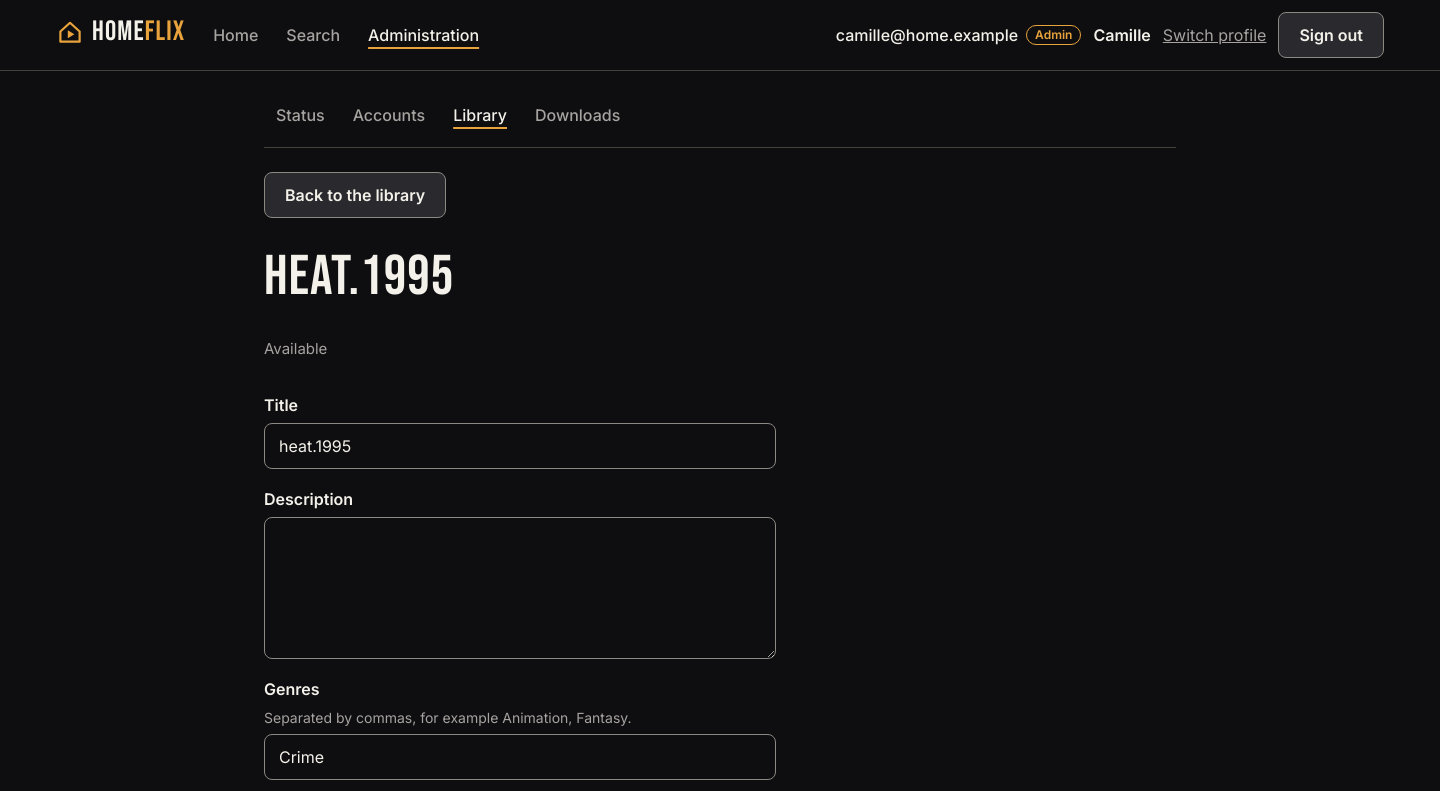
it: MediaEditPage › saves every field in the shape of the contract
The image size is (1440, 791).
Replace the text in the field labelled "Title" with " Heat " at point(520, 446), box [264, 422, 776, 468]
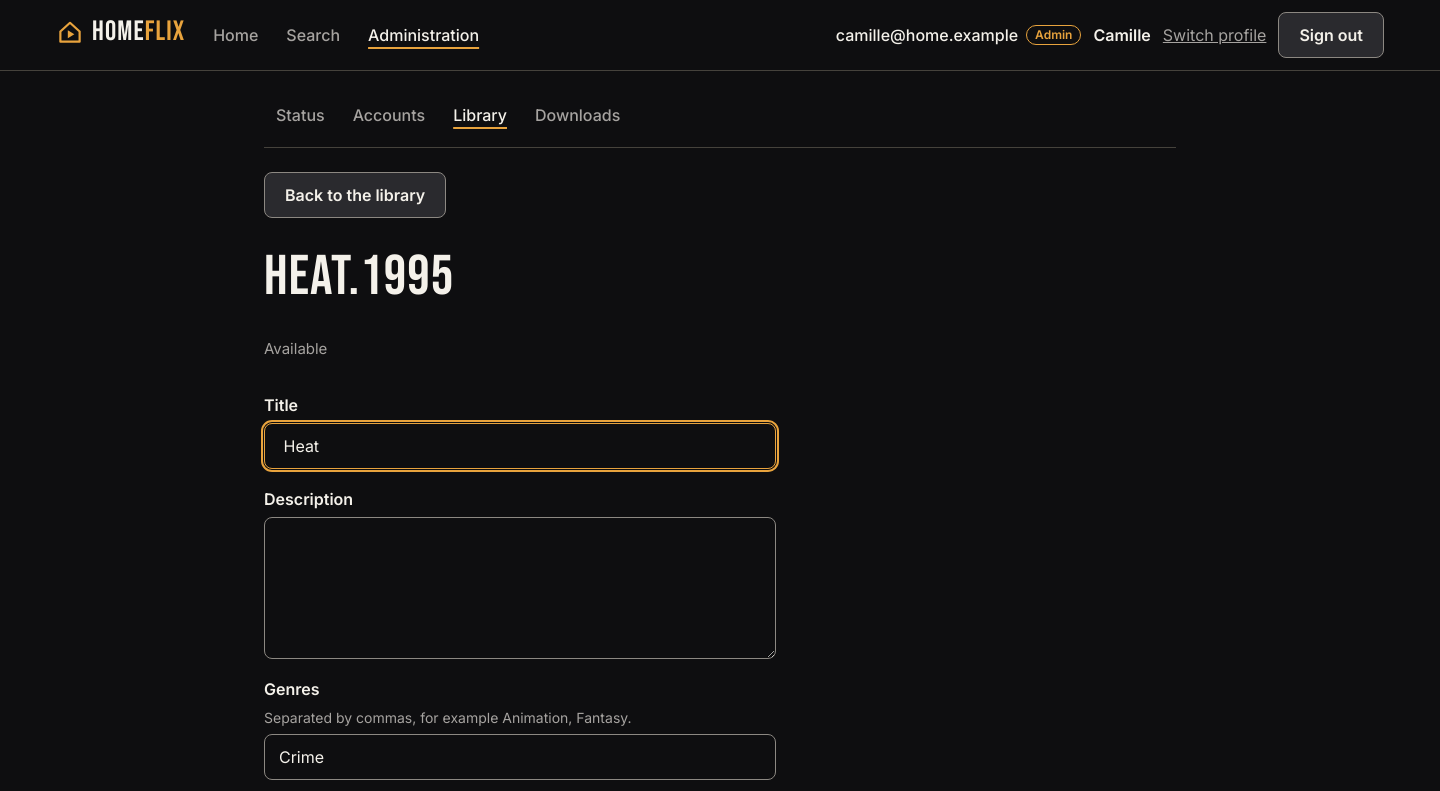
Type "A thief and a cop." into the text box labelled "Description".
click(520, 588); type("A thief and a cop.")  # box [264, 516, 776, 658]
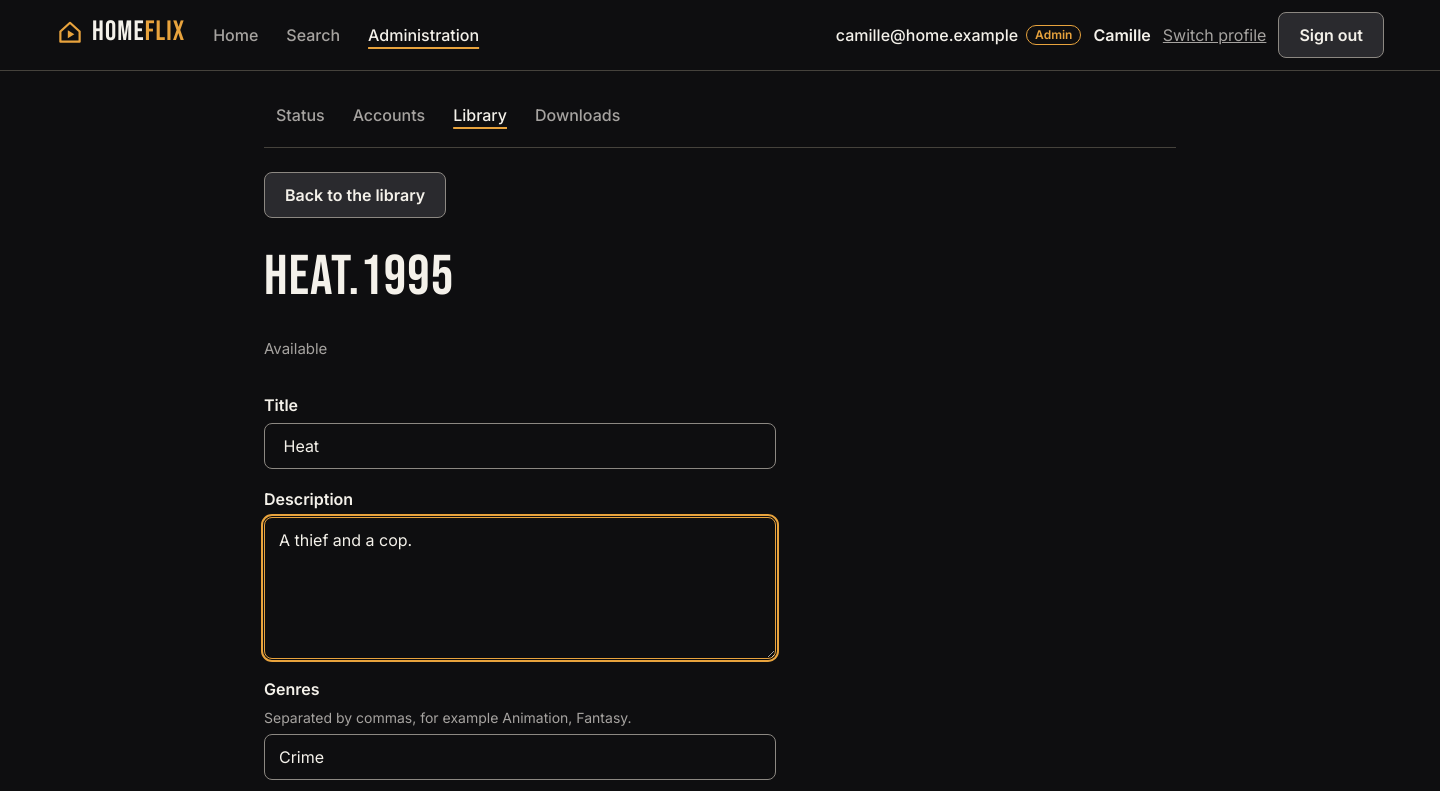
Replace the text in the field labelled "Genres" with "Crime, Drama, " at point(520, 756), box [264, 734, 776, 780]
(page scrolled)
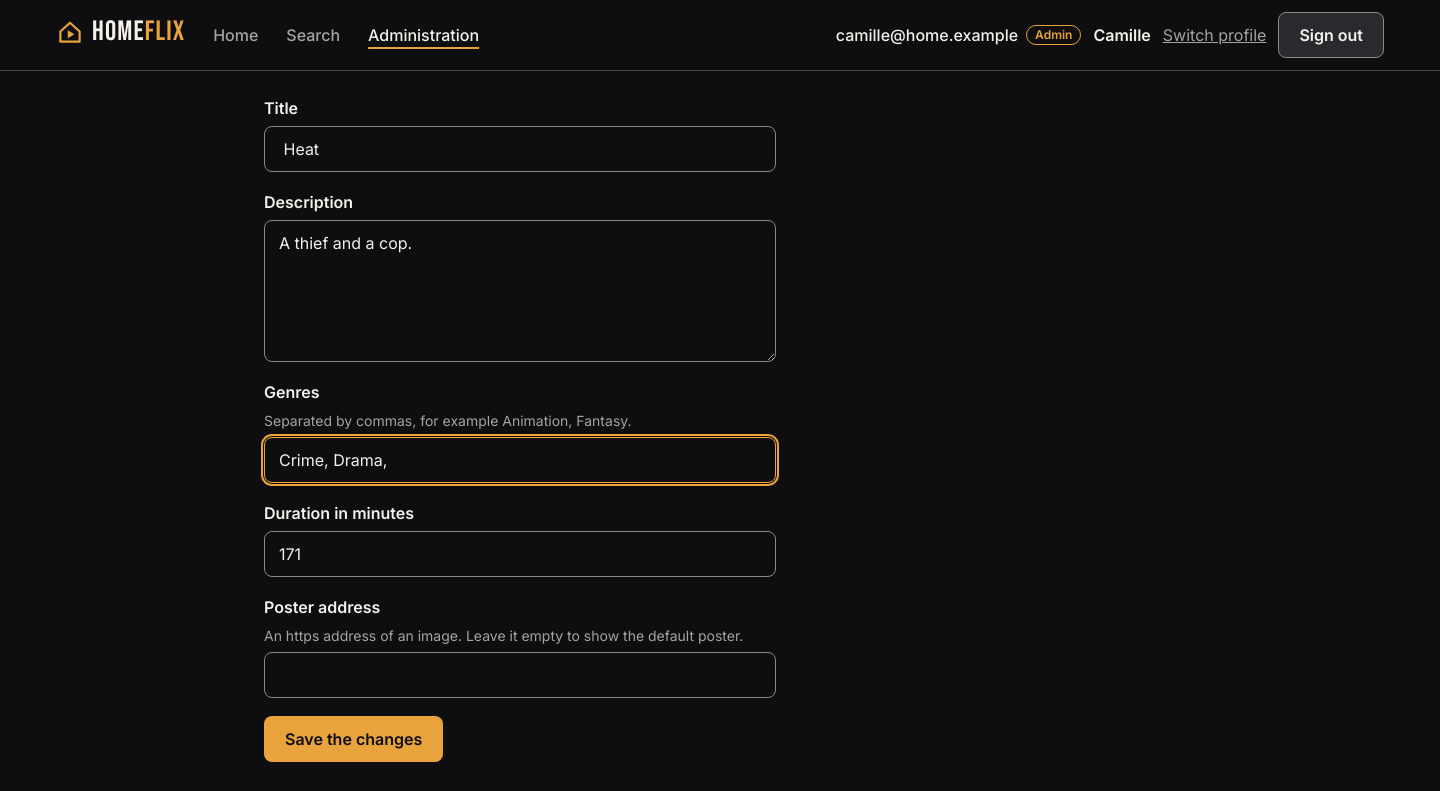
Type "https://images.example.org/heat.jpg" into the field labelled "Poster address".
click(520, 674); type("https://images.example.org/heat.jpg")  # box [264, 652, 776, 698]
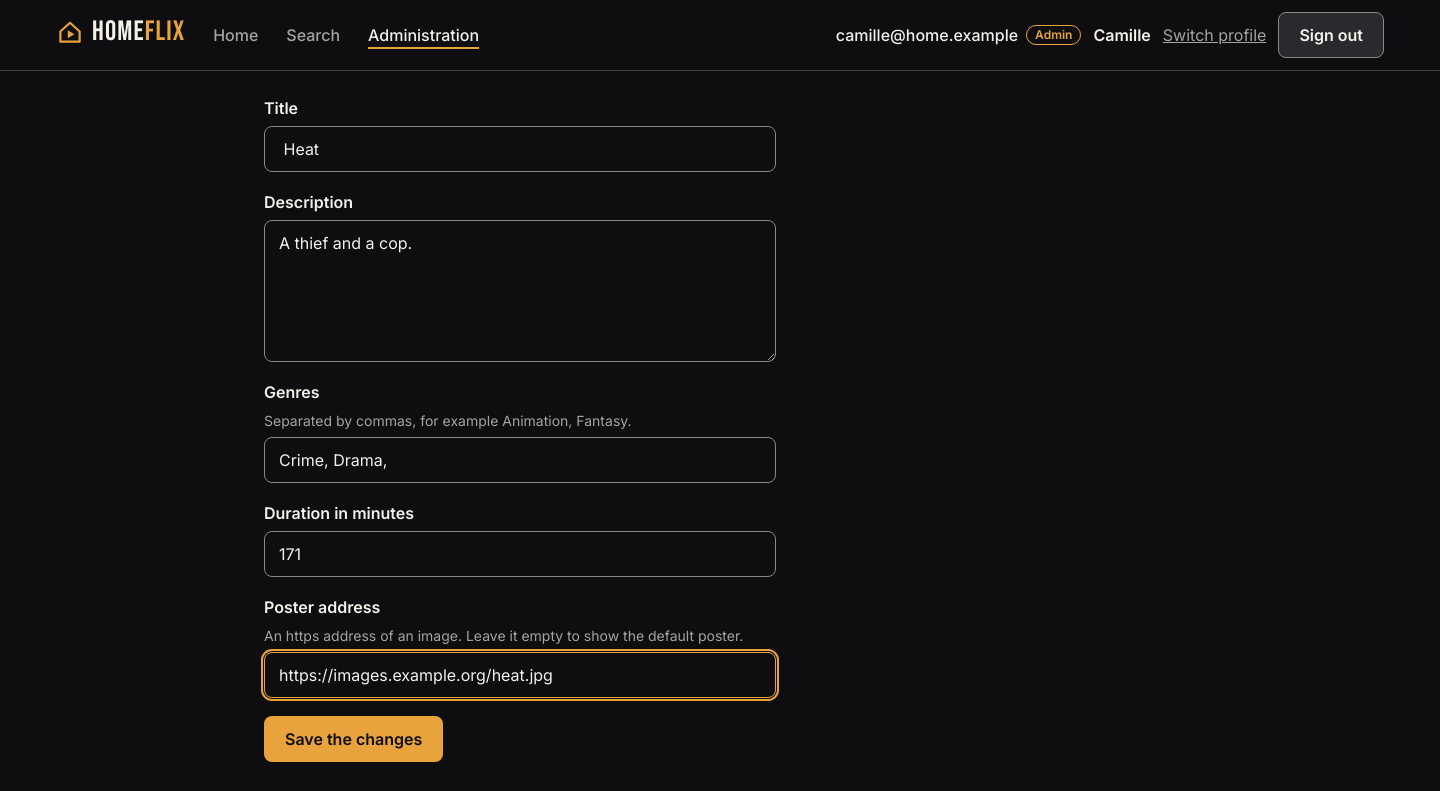
Click the button "Save the changes".
click(354, 738)  # box [264, 716, 443, 762]
(page scrolled)
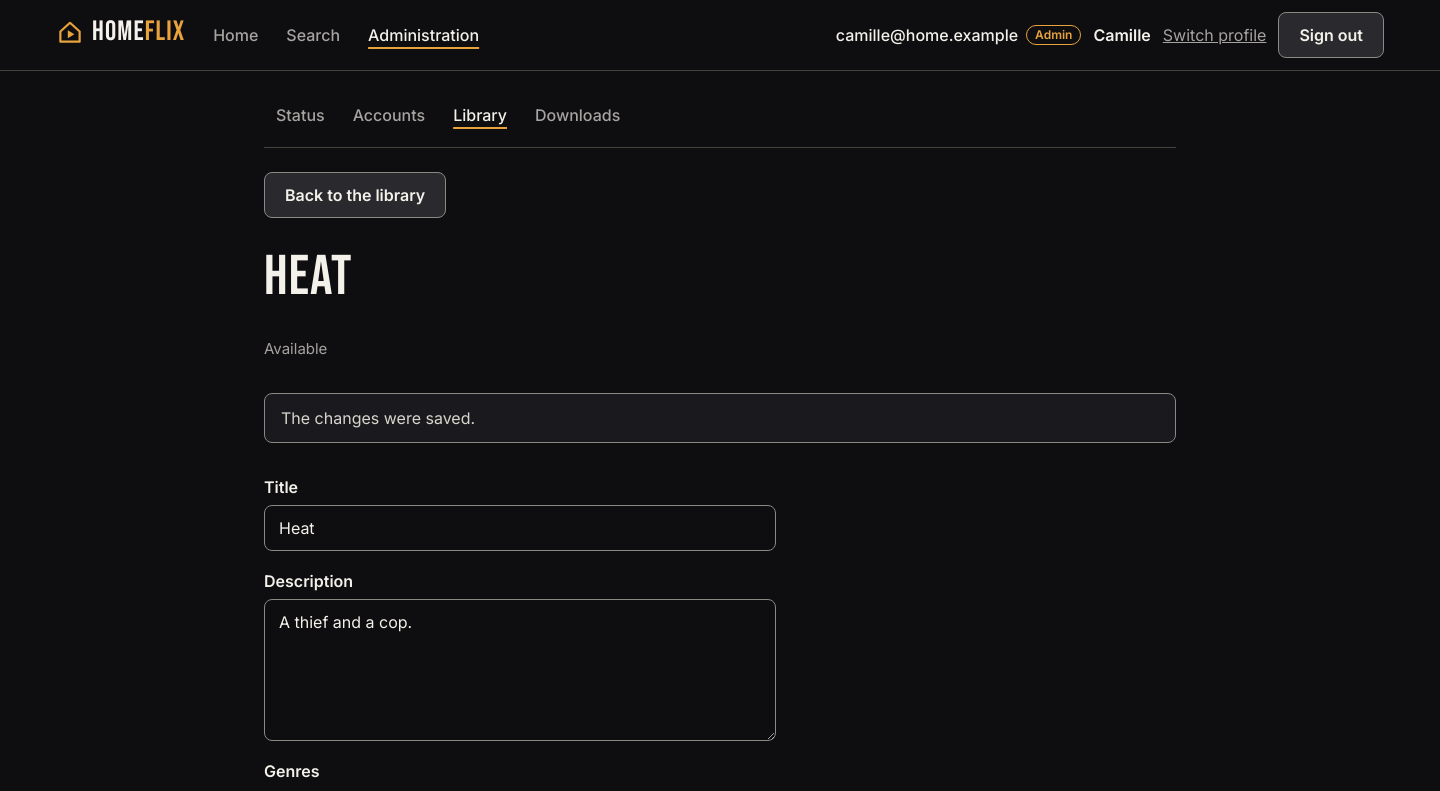
Check: the heading "Heat" is shown, box [264, 244, 353, 311]
Check: the message reads "The changes were saved.", box [281, 408, 475, 428]
